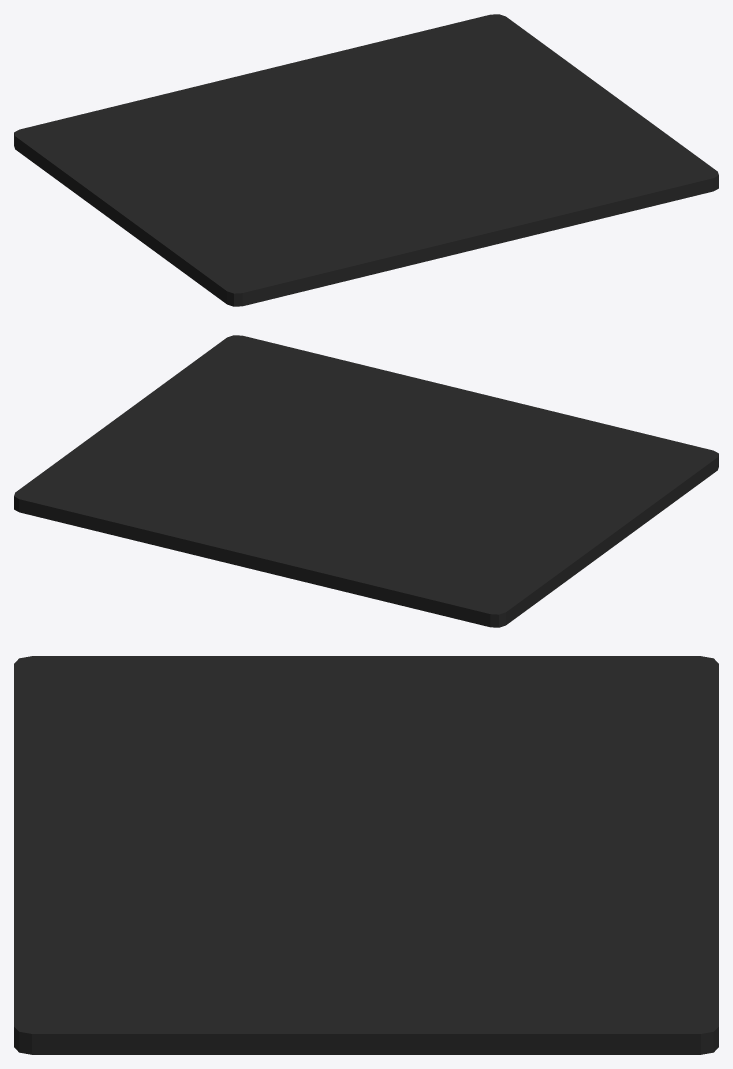
The model's file is SM_Props_PC_08.fbx.
The picture shows the model from 3 angles, top to bottom: view 1: azimuth 30°, elevation 25°; view 2: azimuth 150°, elevation 25°; view 3: azimuth 270°, elevation 25°; orthographic projection. The views are drawn at different scales.
Parts seen in each view (by area): view 1: SM_Props_PC_08; view 2: SM_Props_PC_08; view 3: SM_Props_PC_08.
Boxes of the visible parts, x1,y1,x2,y2 form: SM_Props_PC_08: [14, 14, 718, 306]; SM_Props_PC_08: [14, 335, 718, 627]; SM_Props_PC_08: [14, 656, 718, 1054].
Size of the model in its own units: 0.1941 by 0.005 by 0.1531.
